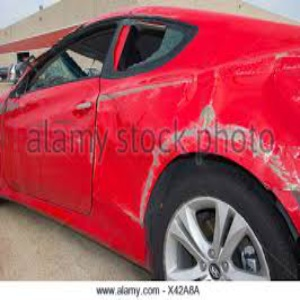bonnet: (31, 45, 161, 103)
bumper: (38, 143, 235, 235)
